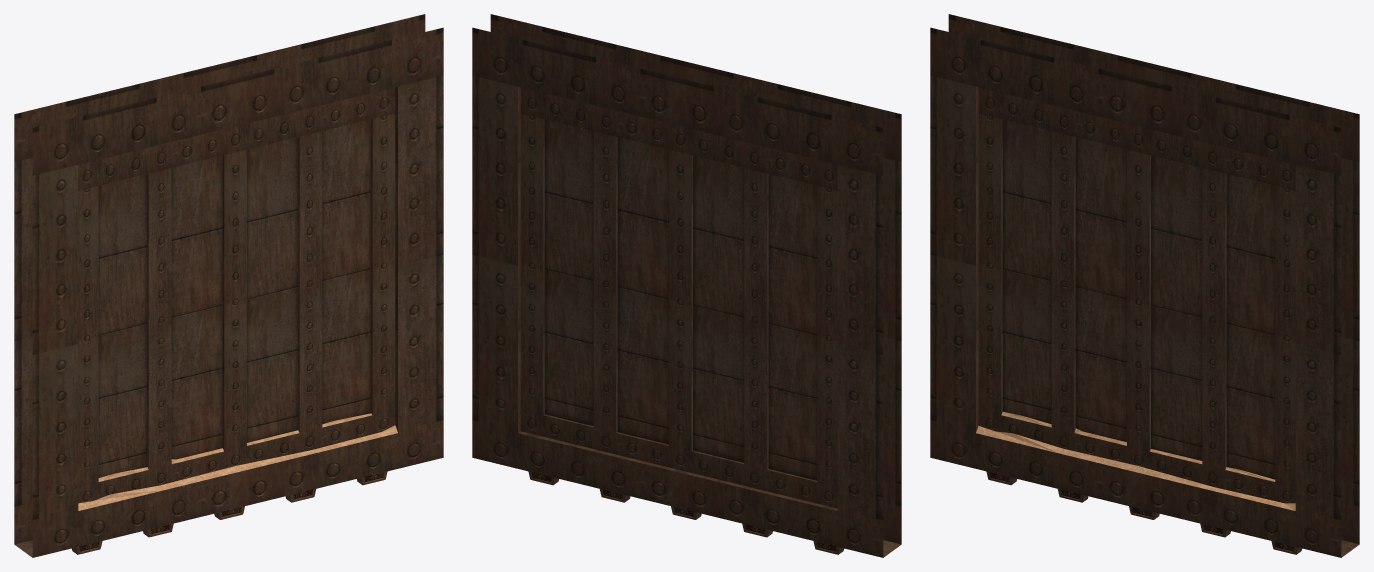
File: door_jabba_frontdoor.fbx
3 views of the same model, side by side, from view 1: azimuth 30°, elevation 25°; view 2: azimuth 150°, elevation 25°; view 3: azimuth 330°, elevation 25° (orthographic).
Parts seen in each view (by area): view 1: mesh_node; view 2: mesh_node; view 3: mesh_node.
Part boxes in pixels (x1,y1,x2,y2): mesh_node: (14,14,443,557); mesh_node: (472,14,901,557); mesh_node: (930,14,1359,557).
Size of the model in its own units: 18 by 18.6 by 1.4.
3 materials, 3 textured.
